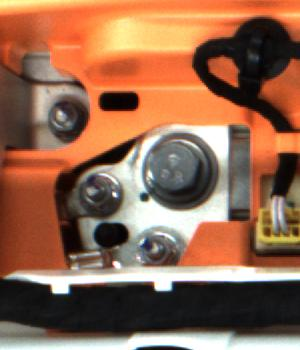nut_b: (141, 130, 218, 213)
screw_s: (72, 172, 117, 208), (134, 229, 174, 267), (44, 98, 78, 132)
